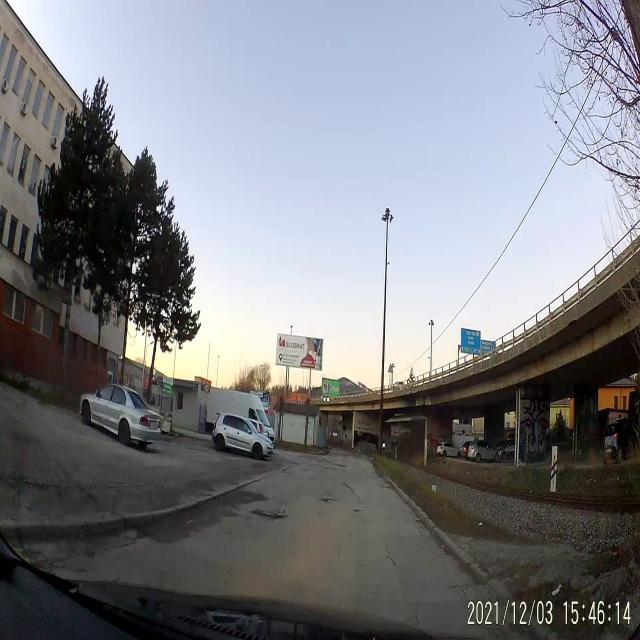Pothole: (254, 504, 288, 524), (322, 492, 336, 508)
